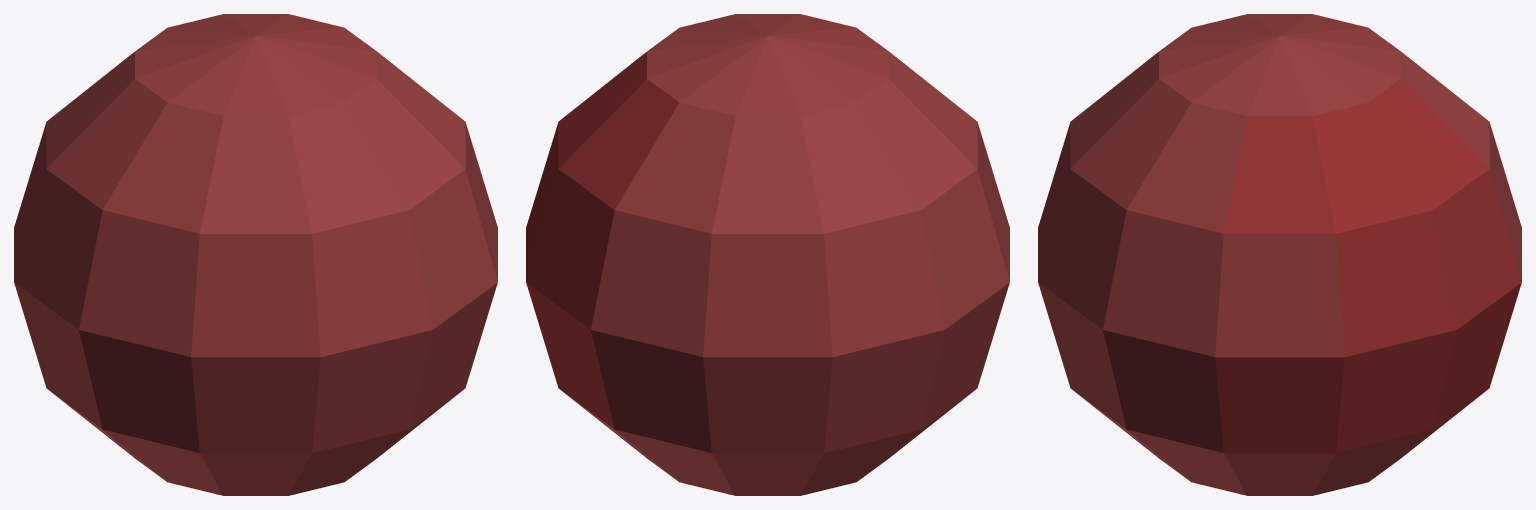
Rendered from Apple.gltf.
3 renders of one model, left to right at view 1: azimuth 30°, elevation 25°; view 2: azimuth 150°, elevation 25°; view 3: azimuth 270°, elevation 25°, orthographic.
Visible parts, largest first — view 1: sphere; view 2: sphere; view 3: sphere.
Boxes of the visible parts, x1=… form: sphere: x1=14, y1=14, x2=497, y2=495; sphere: x1=526, y1=14, x2=1009, y2=495; sphere: x1=1038, y1=14, x2=1521, y2=495.
Size of the model in its own units: 1 by 1 by 1.
1 material, 1 textured.
